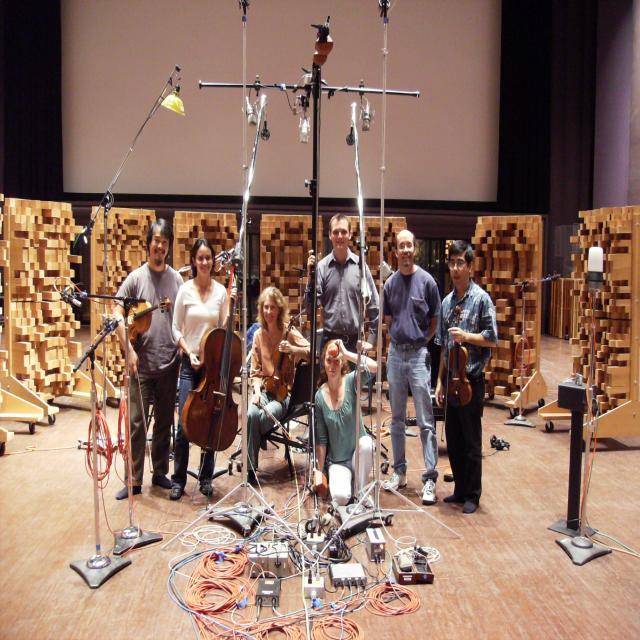cello: (179, 252, 242, 451)
violin: (441, 302, 477, 412), (264, 304, 296, 403), (114, 296, 174, 344)
